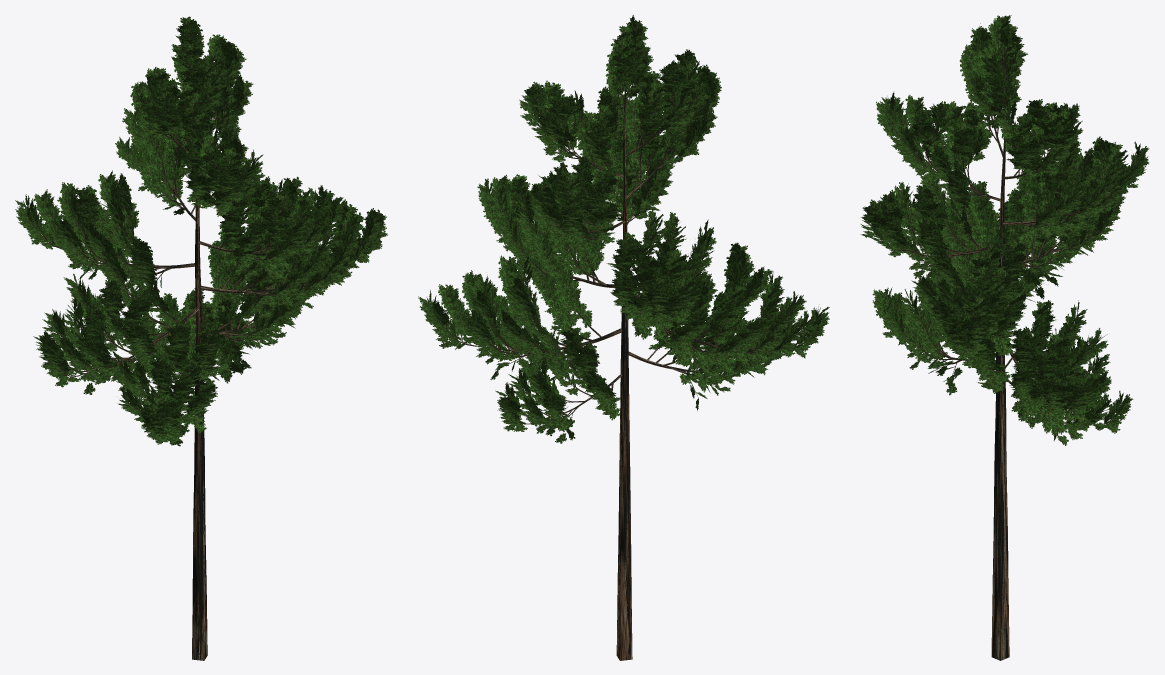
The model's file is tree_2.fbx.
3 renders of one model, left to right at view 1: azimuth 30°, elevation 25°; view 2: azimuth 150°, elevation 25°; view 3: azimuth 270°, elevation 25°, orthographic.
Visible parts, largest first — view 1: leaves.003, tree; view 2: leaves.003, tree; view 3: leaves.003, tree.
Boxes of the visible parts, x1,y1,x2,y2 form: leaves.003: (15,16,387,446); tree: (26,56,368,660); leaves.003: (418,15,829,443); tree: (432,29,814,660); leaves.003: (860,15,1148,445); tree: (872,32,1138,660).
Size of the model in its own units: 493 by 868 by 358.
Materials: 2 (2 with a texture image).
